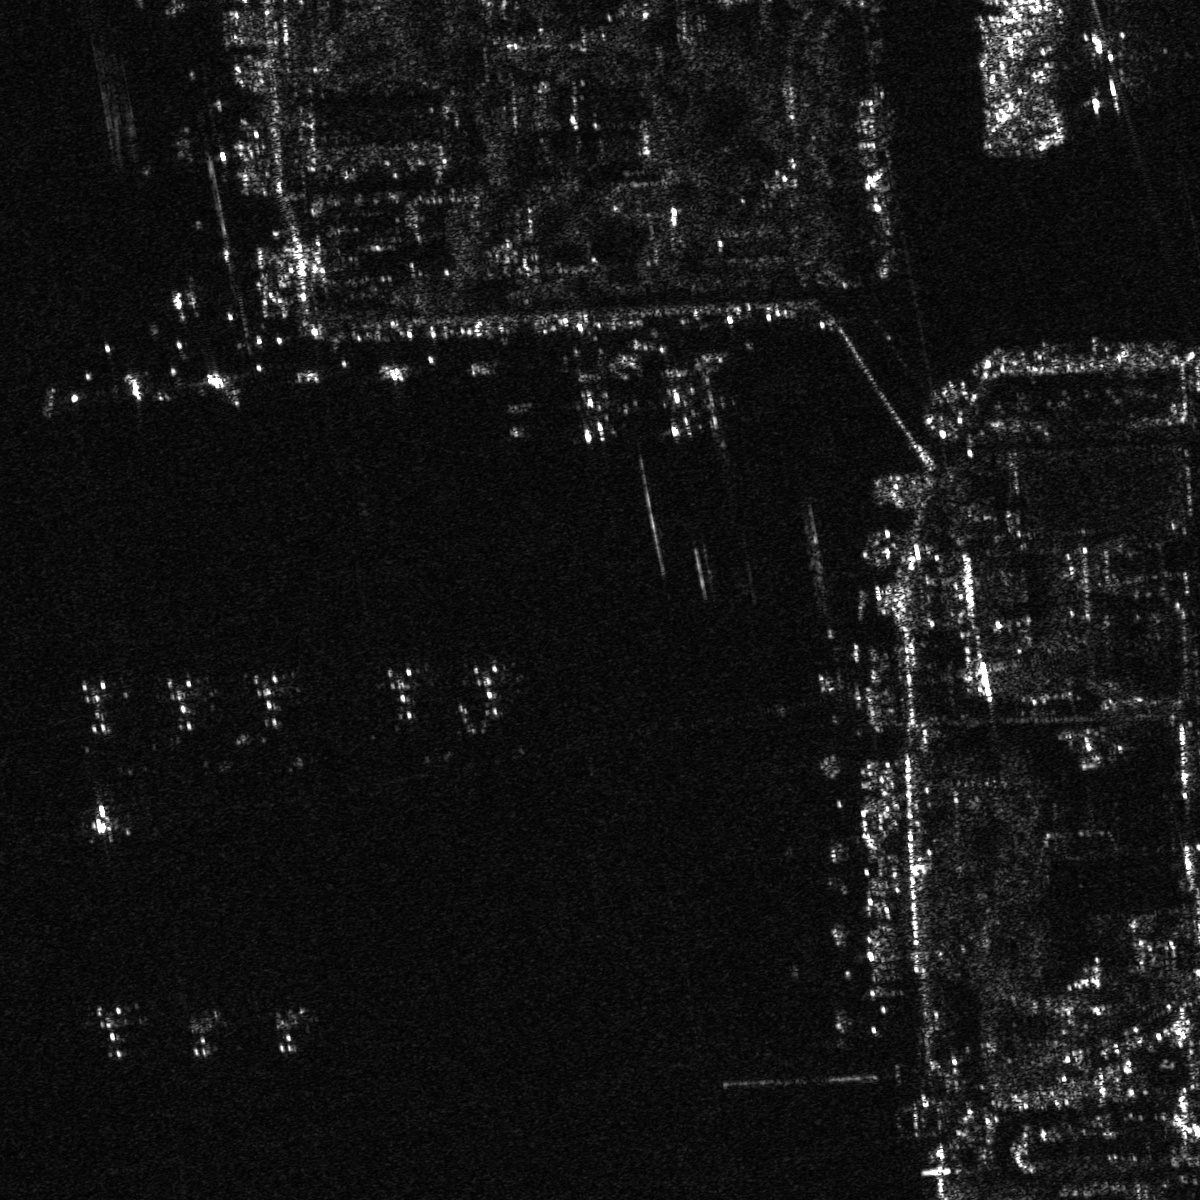A220: (175, 1000, 226, 1062)
A320/321: (262, 1000, 315, 1058)
ARJ21: (557, 366, 632, 446), (76, 996, 145, 1064), (73, 792, 127, 848)
Boeing737: (1073, 26, 1151, 116), (649, 364, 718, 443), (189, 362, 255, 412)
other: (452, 655, 522, 725), (238, 663, 300, 738), (69, 673, 129, 738), (157, 665, 208, 738), (375, 659, 424, 729)
